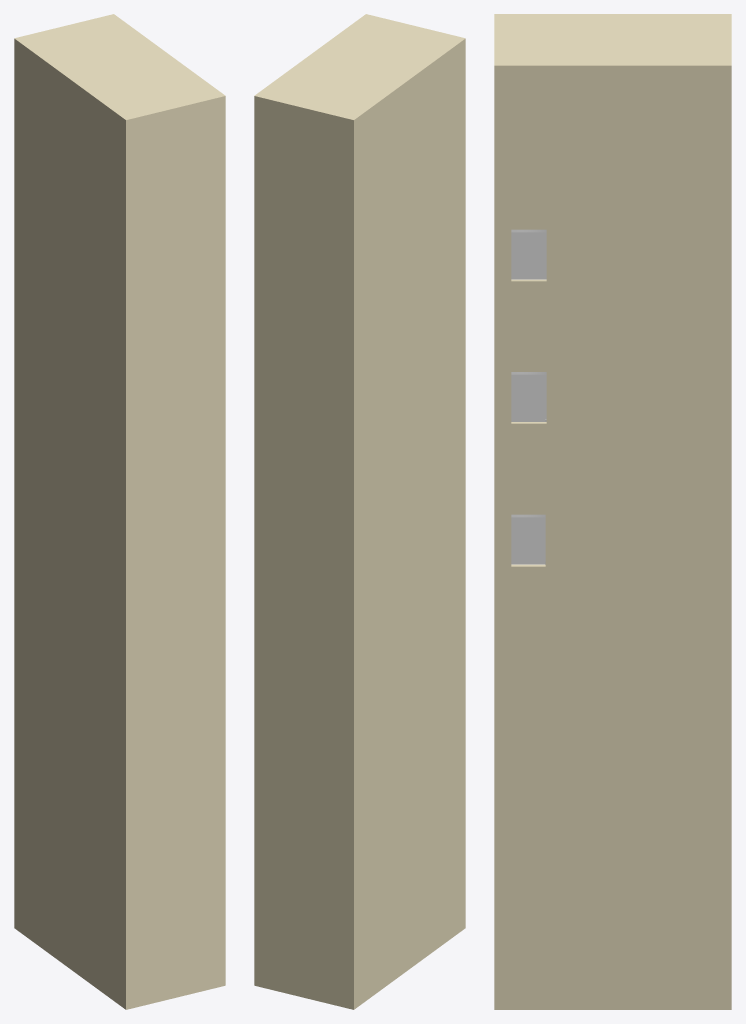
The model's file is stairs_all.fbx.
The picture shows the model from 3 angles, left to right: view 1: azimuth 30°, elevation 25°; view 2: azimuth 150°, elevation 25°; view 3: azimuth 270°, elevation 25°; orthographic projection. The views are drawn at different scales.
Parts seen in each view (by area): view 1: stairs_outsidewall; view 2: stairs_outsidewall; view 3: stairs_outsidewall, stairs_base572, stairs_base574, stairs_base576.
Part boxes in pixels (x1,y1,x2,y2): stairs_outsidewall: [14, 14, 225, 1009]; stairs_outsidewall: [254, 14, 465, 1009]; stairs_outsidewall: [494, 14, 731, 1009]; stairs_base572: [511, 232, 546, 279]; stairs_base574: [511, 374, 546, 421]; stairs_base576: [511, 517, 545, 564].
Bounding box in the file's own units: 276 × 2355 × 537.
Materials: 9 (1 with a texture image).
